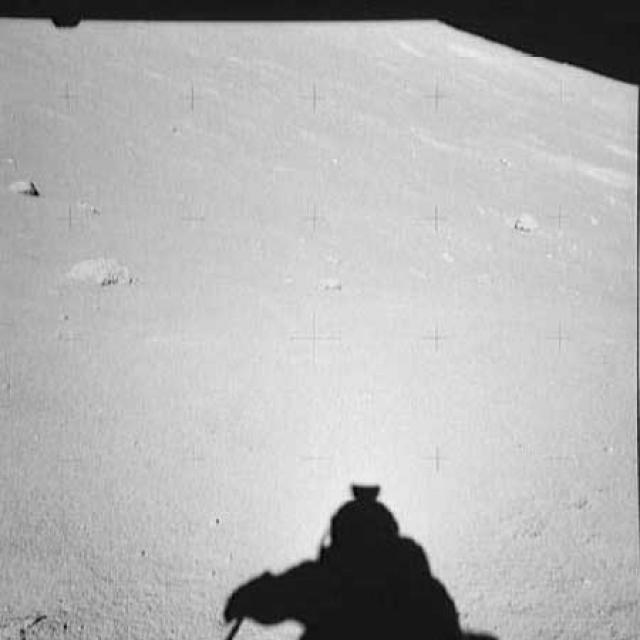rock: (76, 243, 137, 292), (12, 179, 54, 200), (509, 207, 537, 237), (75, 196, 102, 220)
